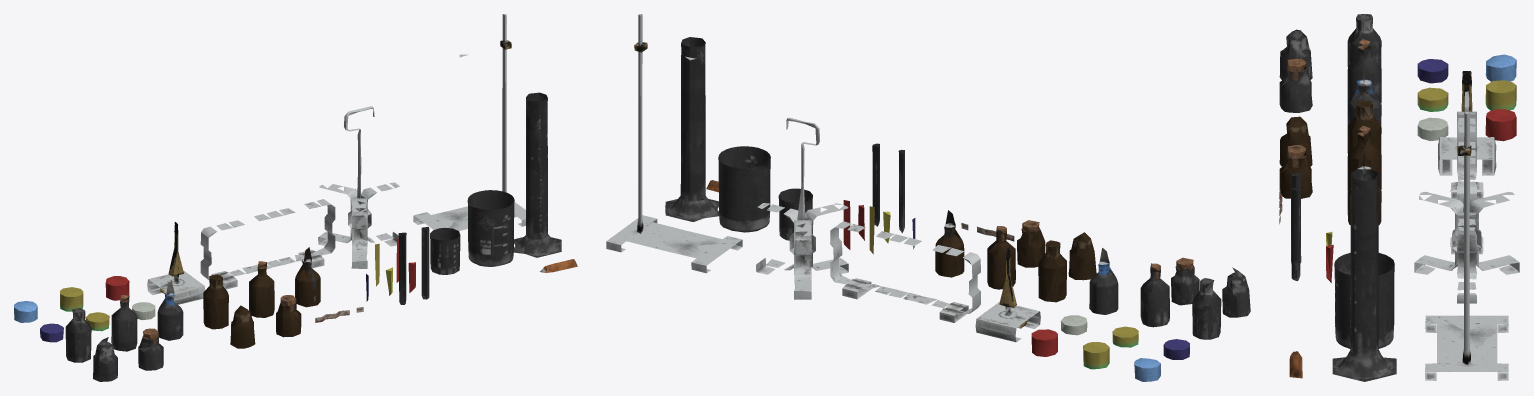
The model's file is chem_re.glb.
3 views of the same model, side by side, from view 1: azimuth 30°, elevation 25°; view 2: azimuth 150°, elevation 25°; view 3: azimuth 270°, elevation 25° (orthographic). The views are drawn at different scales.
Visible parts, largest first — view 1: mesh; view 2: mesh; view 3: mesh.
Boxes of the visible parts, <box> form: mesh: <box>14,14,577,381</box>; mesh: <box>606,14,1250,381</box>; mesh: <box>1279,14,1519,381</box>.
Size of the model in its own units: 1.01 by 0.4 by 0.3304.
Materials: 1 (1 with a texture image).
